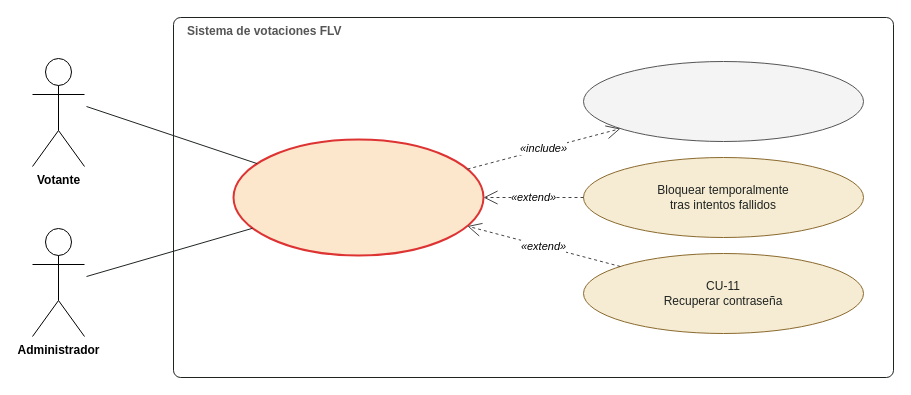
The diagram is 911 pixels wide and 395 high, and some of its shapes have lost their labels. The box of each missing label's shape, as (x1, y1, x2, y2) in pixels:
CU-02 Iniciar y cerrar sesión: (232, 138, 484, 256)
Validar credenciales: (582, 60, 864, 142)
